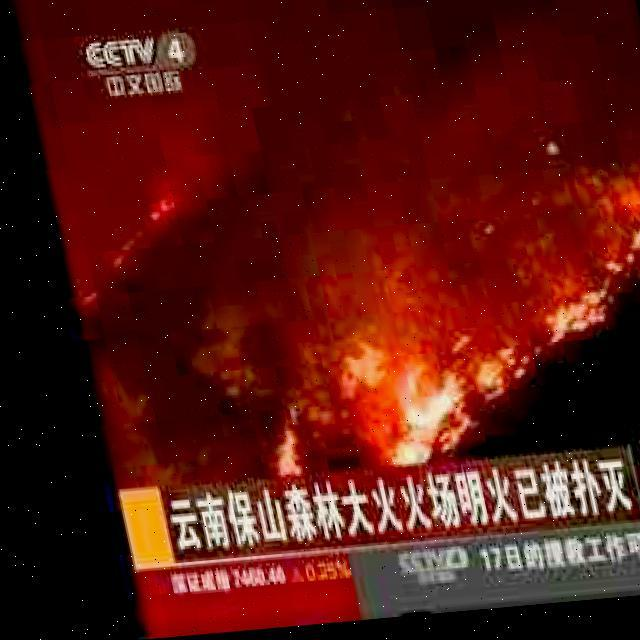Fire: (415, 191, 639, 406), (343, 356, 451, 468), (246, 421, 283, 476)
